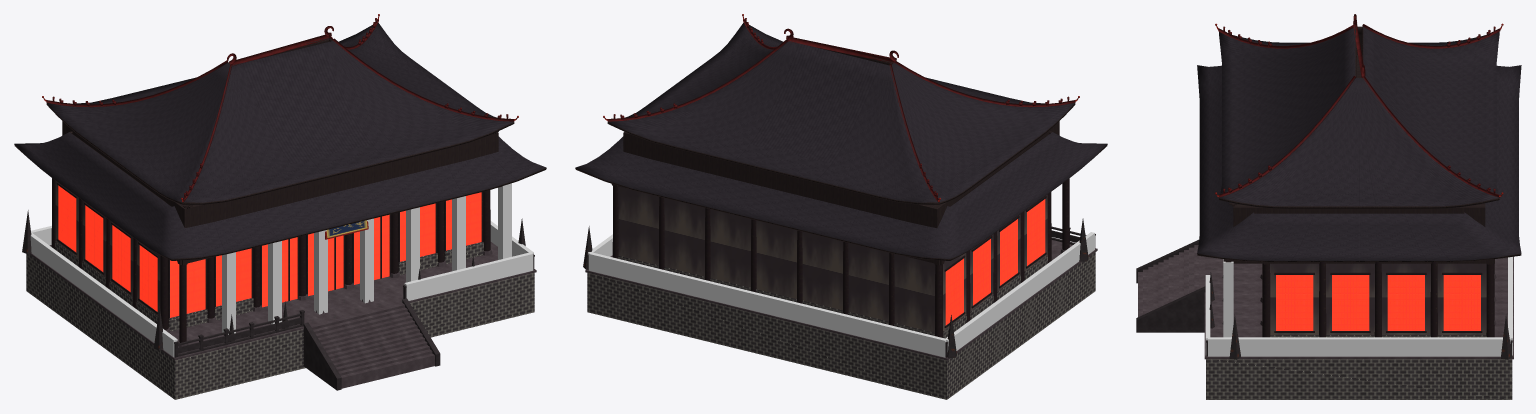
Rendered from demon_palace.glb.
3 views of the same model, side by side, from view 1: azimuth 30°, elevation 25°; view 2: azimuth 150°, elevation 25°; view 3: azimuth 270°, elevation 25° (orthographic). The views are drawn at different scales.
Parts seen in each view (by area): view 1: DemonPalaceTopRoof, DemonPalaceDSkirt, DemonPalacePodiumBase, DemonPalaceLattice, DemonPalaceStairsfront, DemonPalaceClerestory, DemonPalacePodiumCap, DemonPalaceColumns, DemonPalaceRail-convcolonly.004, DemonPalaceFrames, DemonPalaceRail-convcolonly.001, DemonPalaceTopRoofRidges (+12 smaller); view 2: DemonPalaceTopRoof, DemonPalaceWalls, DemonPalaceDSkirt, DemonPalacePodiumBase, DemonPalaceRail-convcolonly.003, DemonPalaceClerestory, DemonPalaceColumns, DemonPalaceLattice, DemonPalaceRail-convcolonly.004, DemonPalaceTopRoofRidges, DemonPalaceDado, DemonPalacePodiumCap (+2 smaller); view 3: DemonPalaceTopRoof, DemonPalaceDSkirt, DemonPalacePodiumBase, DemonPalaceLattice, DemonPalaceRail-convcolonly.002, DemonPalacePodiumCap, DemonPalaceWalls, DemonPalaceColumns, DemonPalaceStairsfront, DemonPalaceCheeksfront, DemonPalaceTopRoofRidges, DemonPalaceClerestory (+8 smaller).
Boxes of the visible parts, box(x1,y1,x2,y2) form: DemonPalaceTopRoof: box(46, 22, 514, 204); DemonPalaceDSkirt: box(14, 131, 546, 260); DemonPalacePodiumBase: box(26, 254, 534, 399); DemonPalaceLattice: box(58, 185, 481, 317); DemonPalaceStairsfront: box(310, 303, 434, 388); DemonPalaceClerestory: box(62, 121, 498, 227); DemonPalacePodiumCap: box(29, 242, 536, 360); DemonPalaceColumns: box(51, 178, 490, 342); DemonPalaceRail-convcolonly.004: box(30, 232, 177, 356); DemonPalaceFrames: box(56, 182, 483, 318); DemonPalaceRail-convcolonly.001: box(404, 252, 533, 300); DemonPalaceTopRoofRidges: box(46, 19, 514, 202); DemonPalaceTopRoof: box(607, 22, 1075, 204); DemonPalaceWalls: box(618, 186, 1047, 332); DemonPalaceDSkirt: box(575, 131, 1107, 260); DemonPalacePodiumBase: box(587, 252, 1095, 399); DemonPalaceRail-convcolonly.003: box(588, 252, 946, 357); DemonPalaceClerestory: box(623, 121, 1059, 227); DemonPalaceColumns: box(612, 178, 1069, 337); DemonPalaceLattice: box(945, 199, 1045, 325); DemonPalaceRail-convcolonly.004: box(944, 232, 1094, 351); DemonPalaceTopRoofRidges: box(607, 19, 1075, 202); DemonPalaceDado: box(618, 255, 1047, 338); DemonPalacePodiumCap: box(585, 240, 1097, 360); DemonPalaceTopRoof: box(1219, 26, 1499, 208); DemonPalaceDSkirt: box(1197, 65, 1521, 261); DemonPalacePodiumBase: box(1206, 359, 1512, 399); DemonPalaceLattice: box(1276, 275, 1480, 330); DemonPalaceRail-convcolonly.002: box(1208, 337, 1510, 356); DemonPalacePodiumCap: box(1204, 256, 1513, 359); DemonPalaceWalls: box(1270, 263, 1486, 335); DemonPalaceColumns: box(1262, 262, 1494, 337); DemonPalaceStairsfront: box(1138, 245, 1204, 316); DemonPalaceCheeksfront: box(1136, 239, 1205, 332); DemonPalaceTopRoofRidges: box(1218, 14, 1500, 197); DemonPalaceClerestory: box(1233, 55, 1485, 226).
Size of what is drawn, in the model's own units: 27.94 by 18.65 by 24.14.
Materials: 13 (13 with a texture image).
